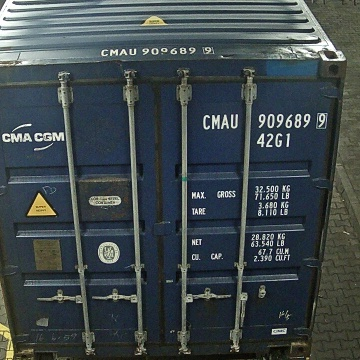serial_id: (201, 113, 326, 130)
